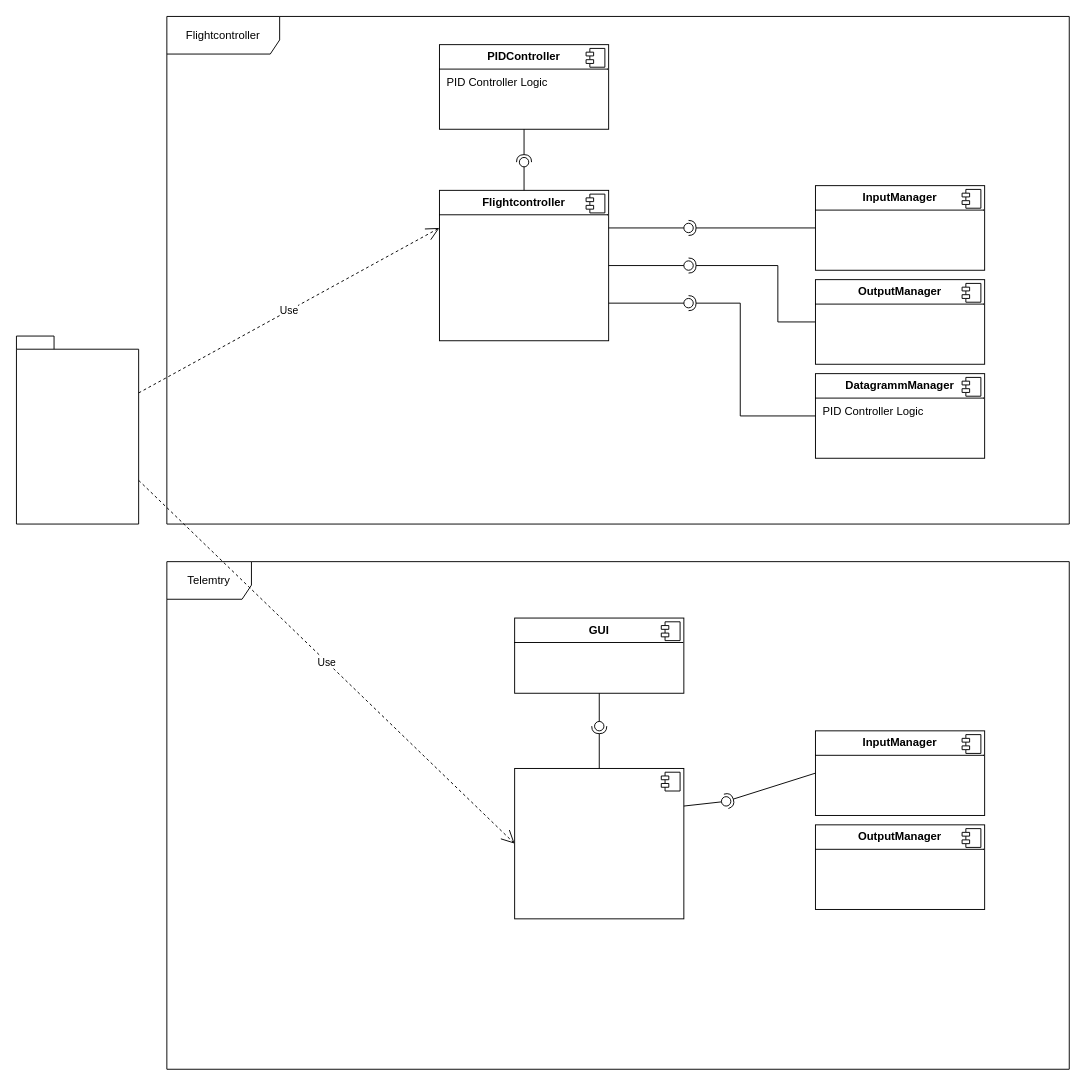
This 1086x1086 diagram has some shape labels left out. The centre of each missing label's shape, as x and y in pixels:
"Database" belongs at pixel 77 429.
"TelemtryApp" belongs at pixel 599 843.
